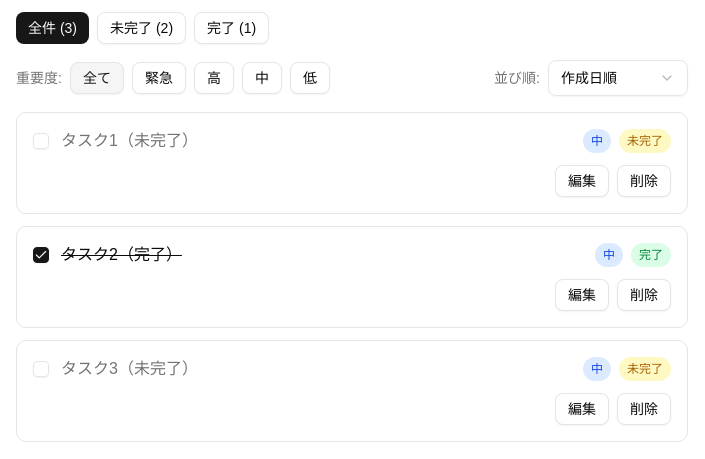
Test: TodoList › Filter functionality › should show all todos when all filter is clicked after another filter
The width and height of the screenshot is (705, 459).
// First, filter to incomplete
Click the button "未完了 (2)" at x=142, y=28, box [97,12,186,44]
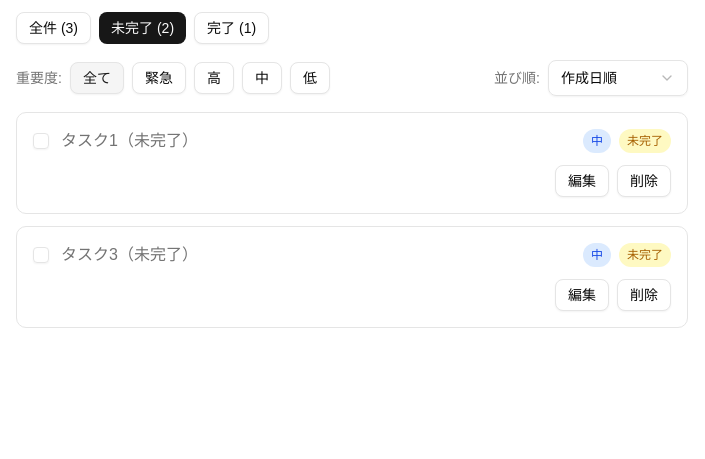
Expected: the heading "タスク2（完了）" is gone
// Then, click all filter
Click the button "全件 (3)" at x=54, y=28, box [16,12,91,44]
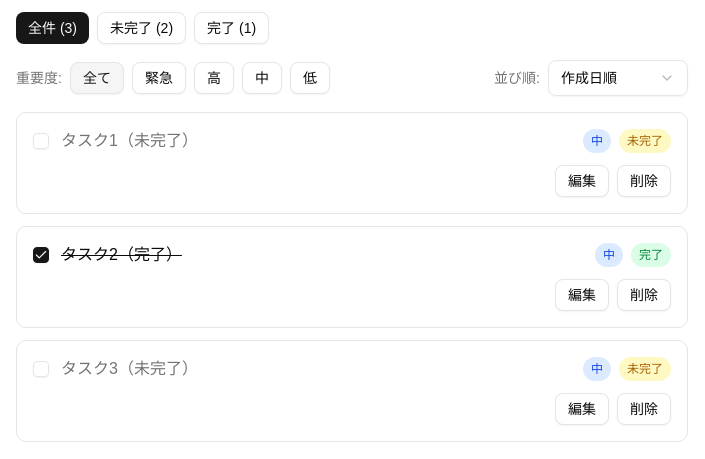
Expected: the heading "タスク1（未完了）" is shown, [61,129,198,153]
Expected: the heading "タスク2（完了）" is shown, [61,243,182,267]
